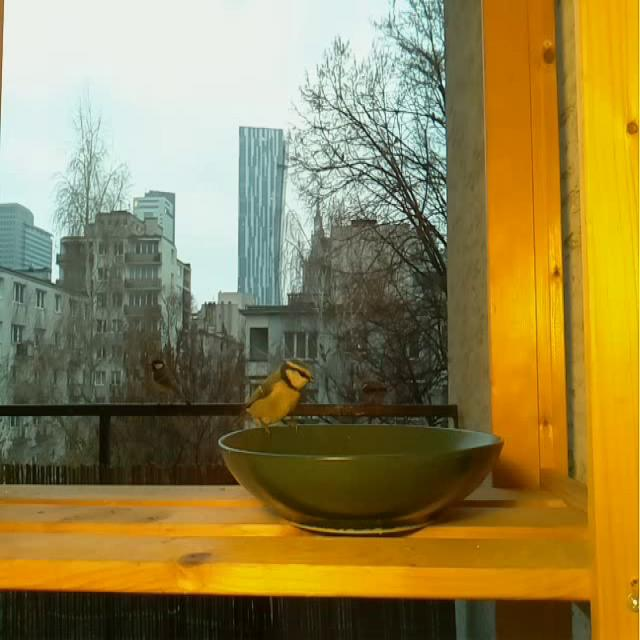Modraszka: (229, 358, 317, 438)
